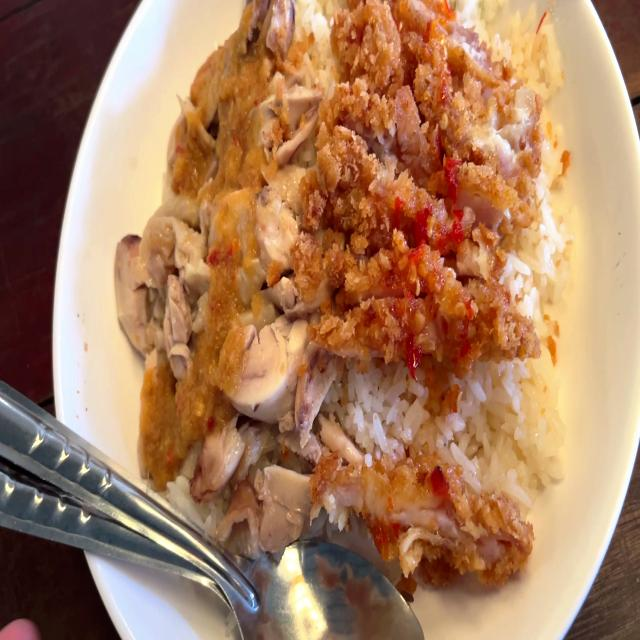boiled_chicken: (122, 0, 291, 459)
chicken_rice: (106, 0, 561, 609)
fried_chicken: (311, 0, 526, 367), (312, 445, 536, 587)
